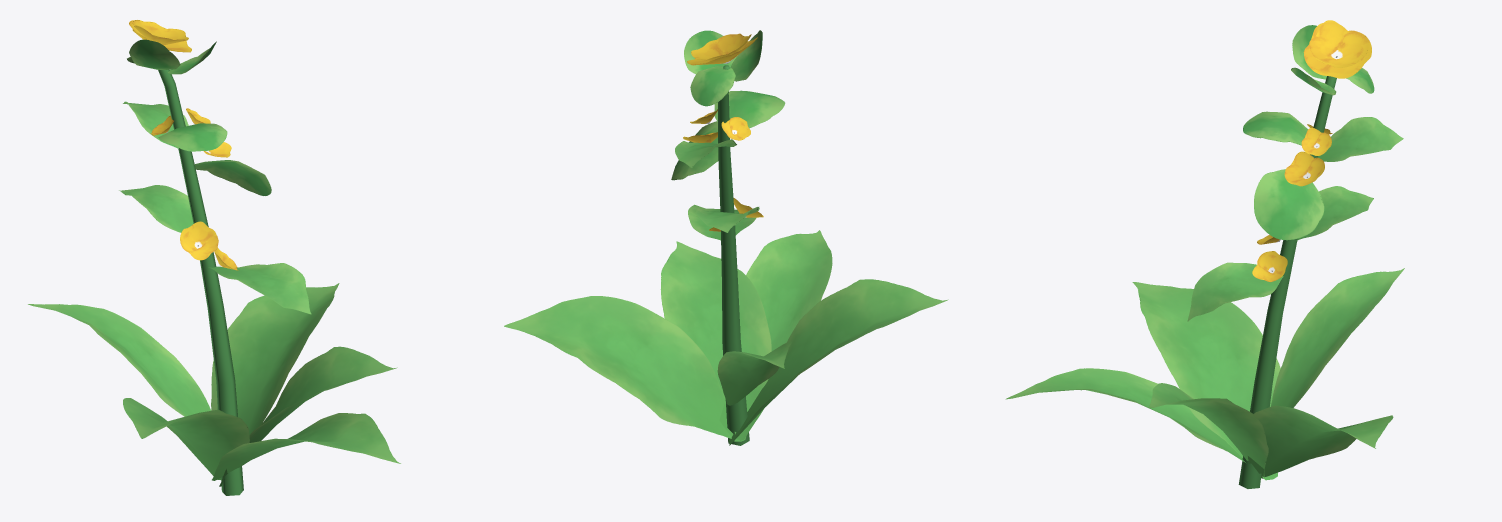
The model's file is SM_flower_loosetrifes.fbx.
3 views of the same model, side by side, from view 1: azimuth 30°, elevation 25°; view 2: azimuth 150°, elevation 25°; view 3: azimuth 270°, elevation 25° (orthographic). The views are drawn at different scales.
Parts seen in each view (by area): view 1: Object32327; view 2: Object32327; view 3: Object32327.
Part boxes in pixels (x1,y1,x2,y2): Object32327: (28, 20, 400, 495); Object32327: (504, 30, 948, 445); Object32327: (1005, 20, 1404, 488).
Size of the model in its own units: 22.97 by 27.14 by 26.02.
